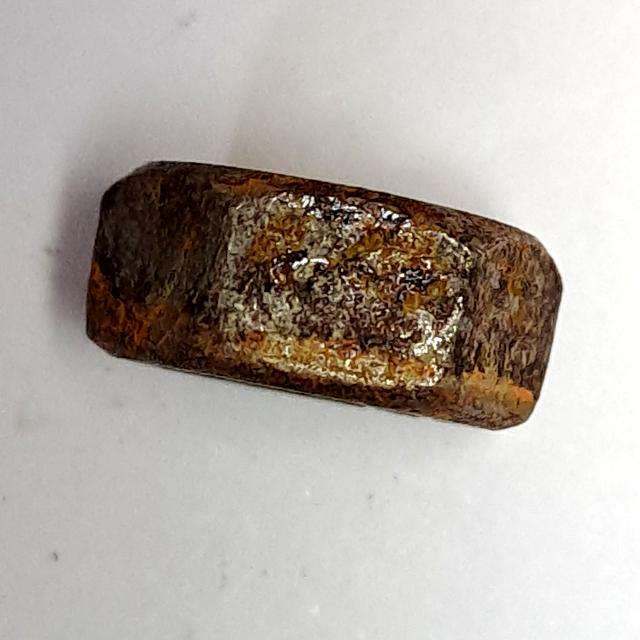Side_Rust: (70, 152, 580, 440)
